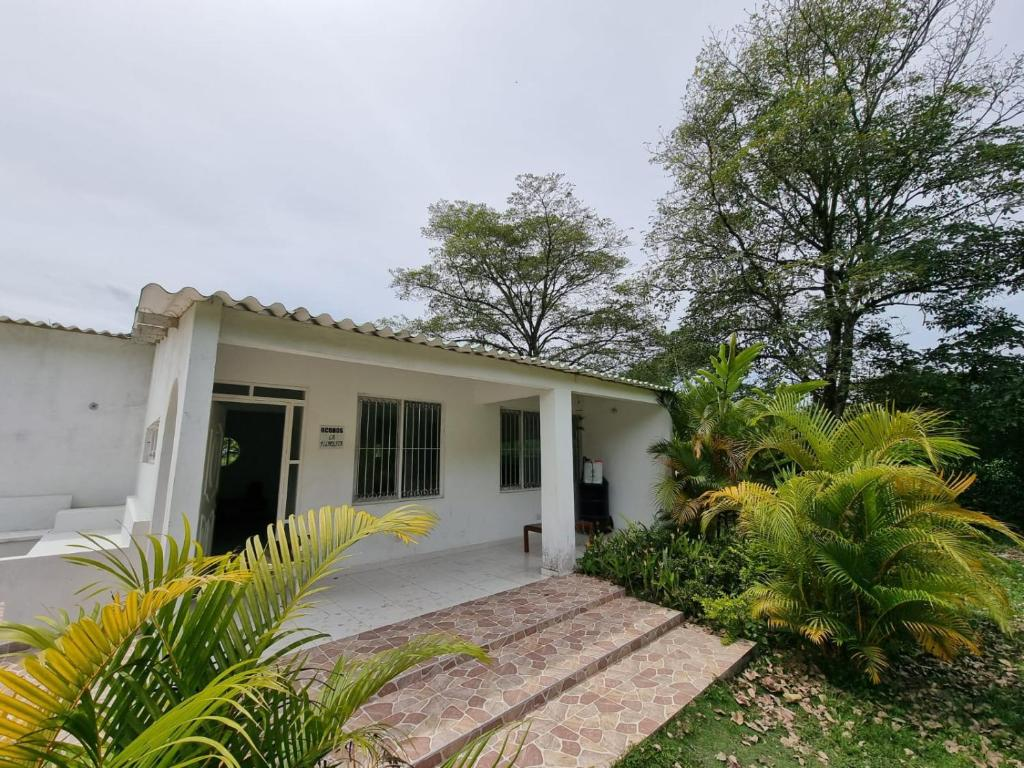House: (10, 282, 687, 588)
